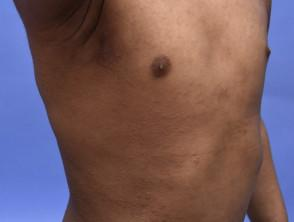Eczema: (96, 37, 126, 75), (207, 77, 235, 108), (99, 186, 135, 208), (106, 101, 130, 130), (139, 208, 182, 222), (199, 18, 223, 43), (181, 144, 204, 169), (140, 187, 162, 211), (231, 116, 253, 139), (187, 88, 210, 110), (146, 94, 167, 117), (80, 161, 99, 184), (162, 180, 179, 200)
